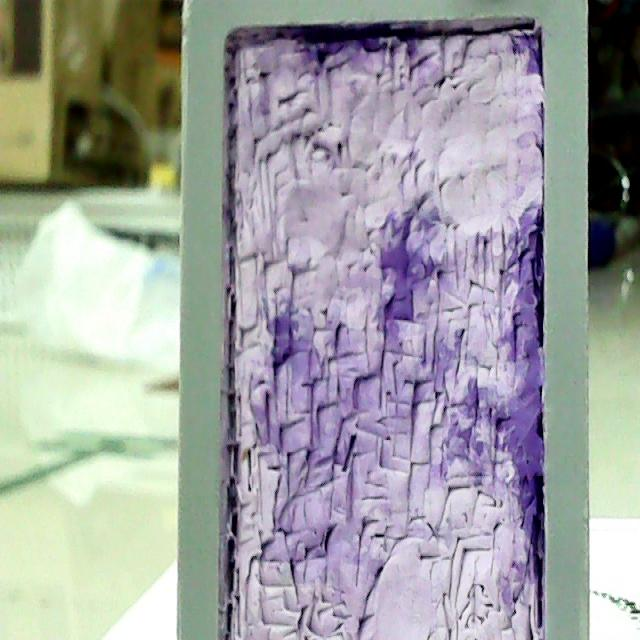block: (166, 0, 602, 640)
